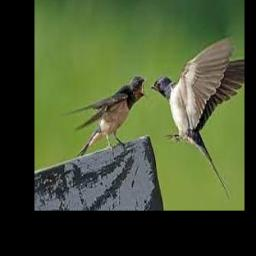Swallow: (151, 36, 245, 199), (64, 75, 148, 157)
